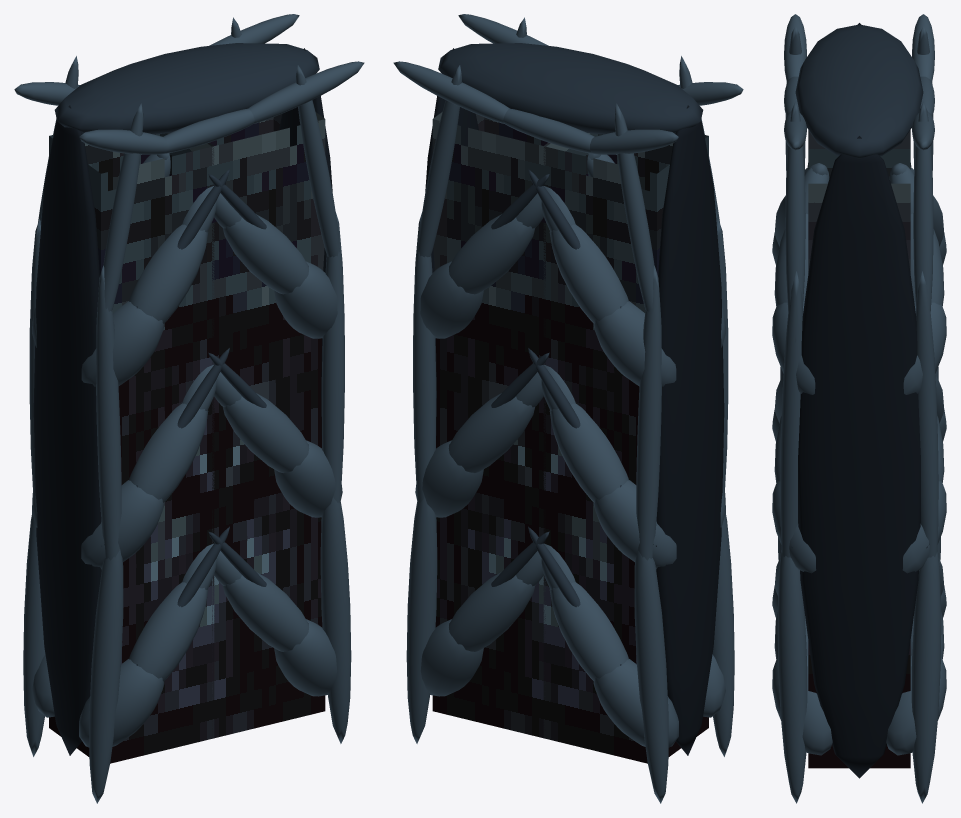
Rendered from CMU3DHiveDoorXenoResinQueen.glb.
3 views of the same model, side by side, from view 1: azimuth 30°, elevation 25°; view 2: azimuth 150°, elevation 25°; view 3: azimuth 270°, elevation 25° (orthographic).
Parts seen in each view (by area): view 1: closed contracting membrane (×2), diagonal muscular leaf fold (×13), resin jamb tissue (×2), curved jamb tendon (×8), fleshy overhanging lintel, swept lintel fold (×5), raised leaf seam (×6); view 2: closed contracting membrane (×2), diagonal muscular leaf fold (×13), resin jamb tissue (×2), curved jamb tendon (×8), fleshy overhanging lintel, swept lintel fold (×5), raised leaf seam (×6); view 3: resin jamb tissue, curved jamb tendon (×8), fleshy overhanging lintel, diagonal muscular leaf fold (×12), closed contracting membrane (×2), swept lintel fold (×6).
Part boxes in pixels (x1=…): closed contracting membrane (×2): x1=49, y1=112, x2=325, y2=763; diagonal muscular leaf fold (×13): x1=32, y1=214, x2=342, y2=747; resin jamb tissue (×2): x1=33, y1=48, x2=332, y2=755; curved jamb tendon (×8): x1=23, y1=65, x2=351, y2=803; fleshy overhanging lintel: x1=54, y1=43, x2=319, y2=134; swept lintel fold (×5): x1=14, y1=14, x2=364, y2=154; raised leaf seam (×6): x1=177, y1=169, x2=266, y2=607; closed contracting membrane (×2): x1=432, y1=112, x2=708, y2=763; diagonal muscular leaf fold (×13): x1=415, y1=214, x2=725, y2=747; resin jamb tissue (×2): x1=425, y1=48, x2=724, y2=755; curved jamb tendon (×8): x1=406, y1=65, x2=734, y2=803; fleshy overhanging lintel: x1=438, y1=43, x2=703, y2=134; swept lintel fold (×5): x1=393, y1=14, x2=743, y2=154; raised leaf seam (×6): x1=491, y1=169, x2=580, y2=607; resin jamb tissue: x1=798, y1=136, x2=920, y2=778; curved jamb tendon (×8): x1=777, y1=26, x2=941, y2=803; fleshy overhanging lintel: x1=795, y1=25, x2=923, y2=158; diagonal muscular leaf fold (×12): x1=772, y1=168, x2=946, y2=755; closed contracting membrane (×2): x1=808, y1=130, x2=910, y2=768; swept lintel fold (×6): x1=784, y1=14, x2=934, y2=150.
Bounding box in the file's own units: 1.12 × 2.59 × 0.6003.
5 materials, 2 textured.
